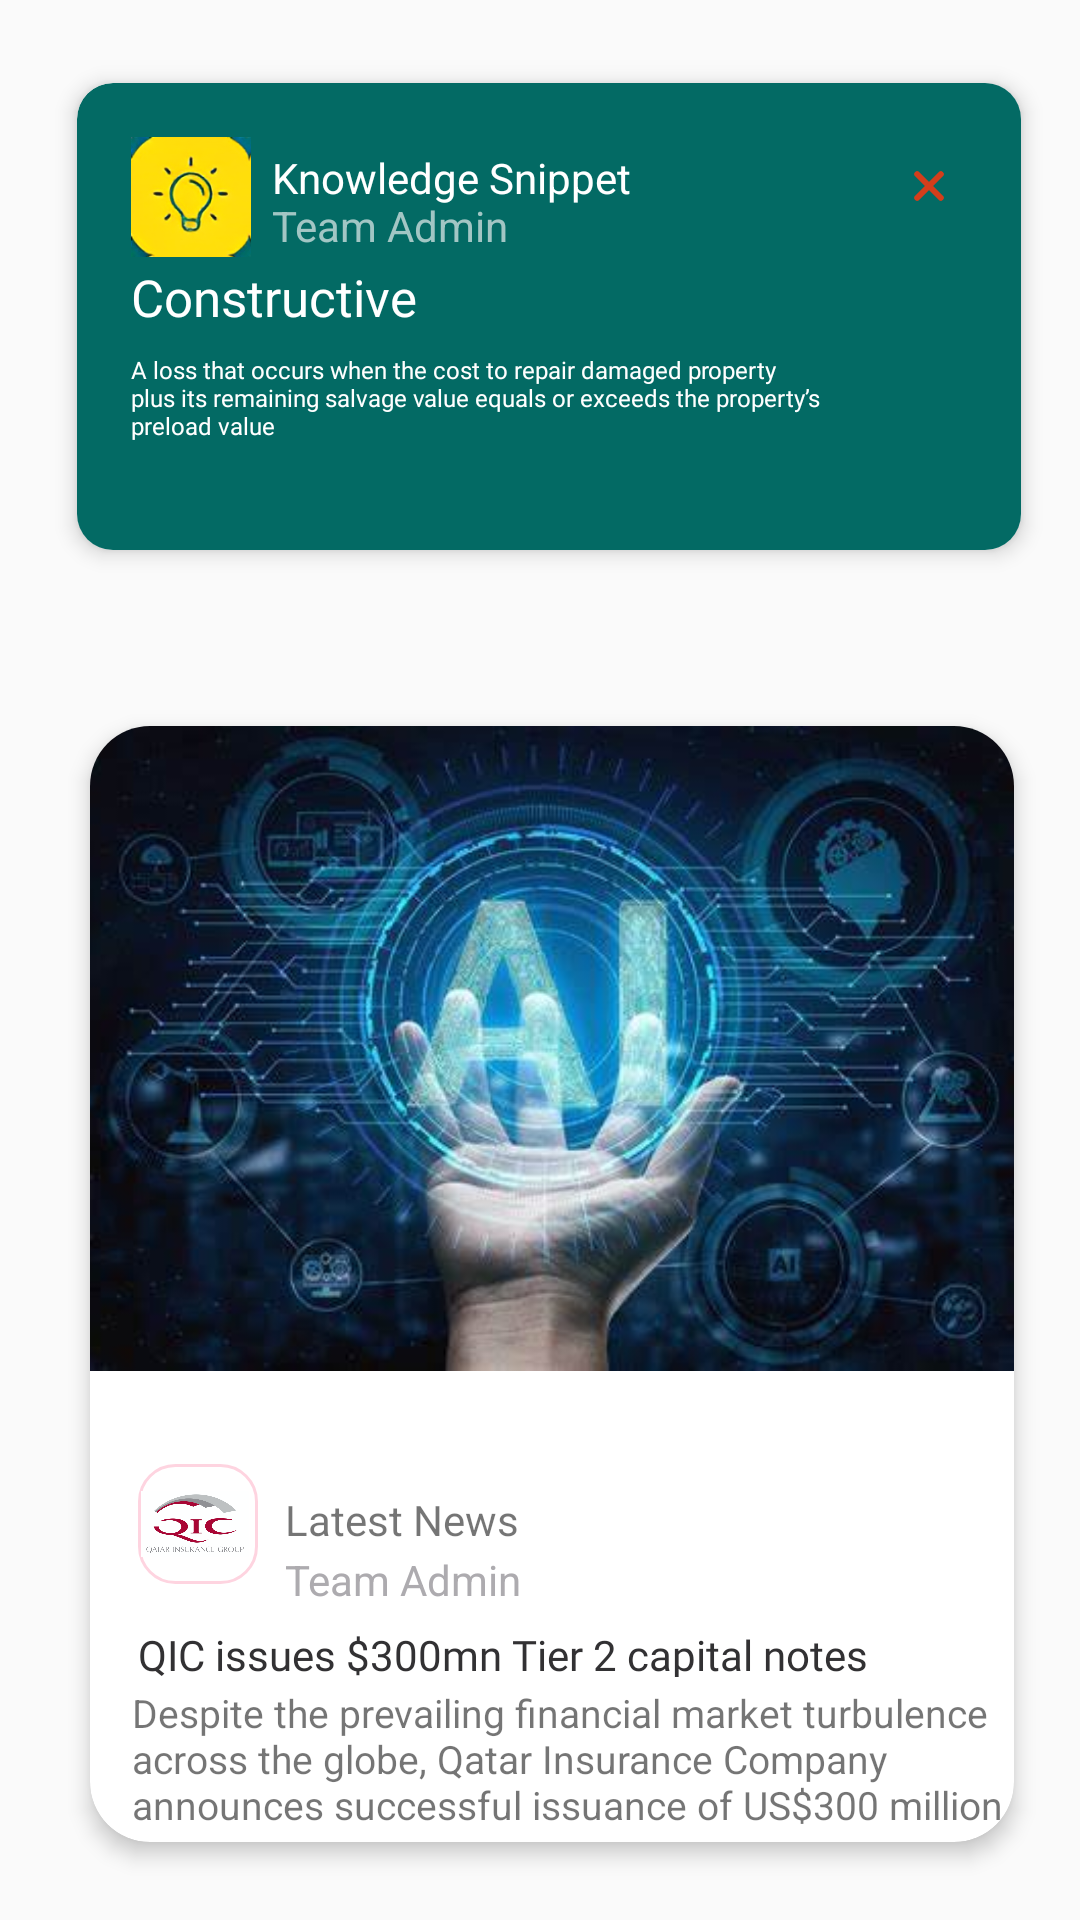

Icon bounding boxes for this 1080px×1920px phone screenshot, format [x1,y1,x2,y2]:
bulb: [131,137,251,257]
cross: [914,171,944,201]
